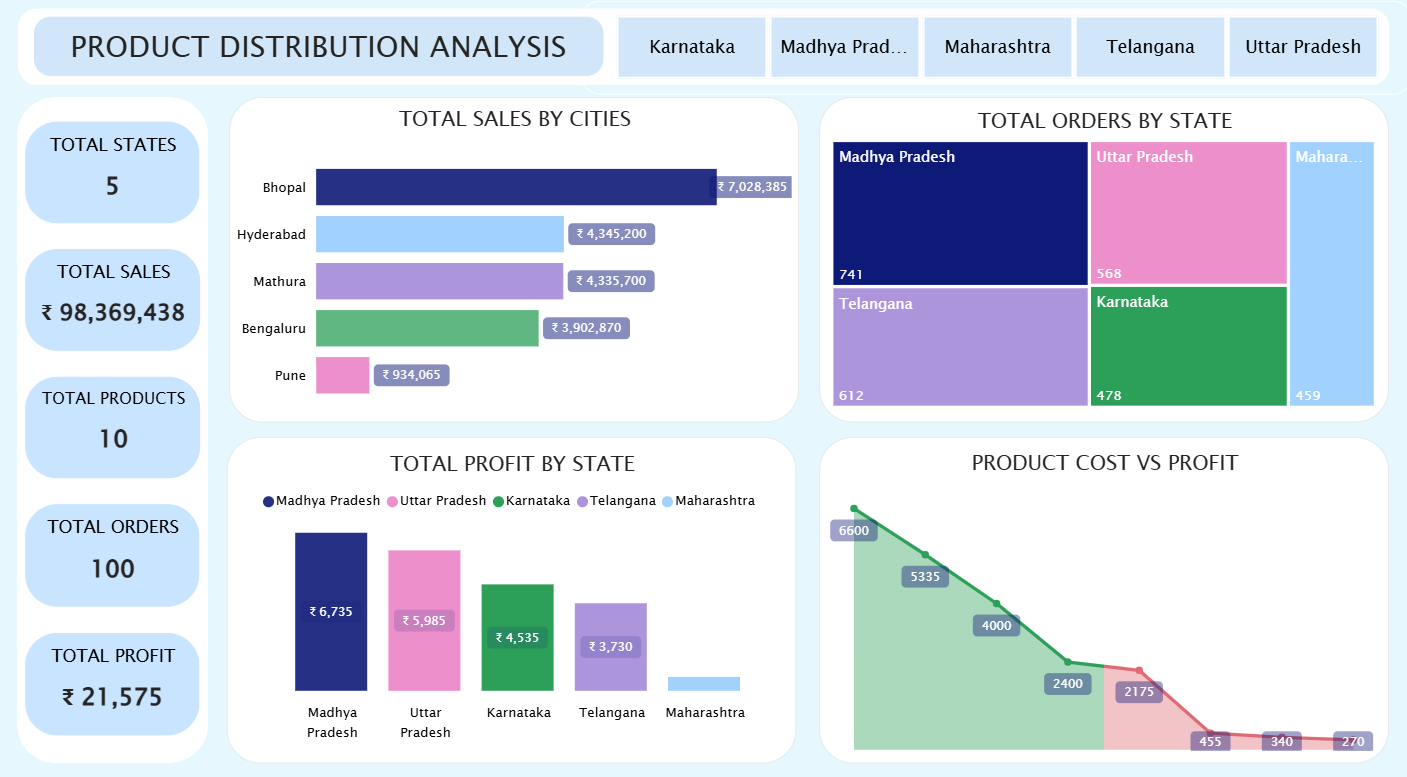

Layout of this report page (visuals, bound fields, positions):
{"tool":"powerbi","page":{"name":"PRODUCT DISTRIBUTION ANALYSIS DASHBOARD","canvas":[1280,720],"ordinal":0},"visuals":[{"type":"treemap","title":"TOTAL ORDERS BY STATE","fields":{"Group":["DAX Customers xlsx.State"],"Values":["Sum(DAX Orders xlsx.Quantity)"]},"box":[743,95.3,515.1,294.2],"z":0},{"type":"clusteredBarChart","title":"TOTAL SALES BY CITIES","fields":{"Category":["DAX Customers xlsx.City"],"Y":["DAX Orders xlsx.SALES"]},"box":[209.3,95.3,515.1,294.2],"z":1000},{"type":"columnChart","title":"TOTAL PROFIT BY STATE","fields":{"Category":["DAX Customers xlsx.State"],"Y":["DAX Orders xlsx.PROFIT"],"Series":["DAX Customers xlsx.State"]},"box":[207,402.3,515.1,295.3],"z":2000},{"type":"areaChart","title":"PRODUCT QUANTITY DISTRIUTION BY STATE","fields":{"Category":["DAX Orders xlsx.Product Cost"],"Y":["DAX Orders xlsx.PROFIT"]},"box":[743,402.3,515.1,295.3],"z":3000},{"type":"shape","box":[17.4,95.3,173.3,602.3],"z":4000},{"type":"card","title":"TOTAL STATES","fields":{"Values":["Count(DAX Customers xlsx.State)"]},"box":[24.1,116.4,159.3,93.3],"z":5000},{"type":"card","title":"TOTAL SALES","fields":{"Values":["DAX Orders xlsx.SALES"]},"box":[24.1,231.7,160.4,93.3],"z":6000},{"type":"card","title":"TOTAL PRODUCTS","fields":{"Values":["Count(DAX Orders xlsx.Product)"]},"box":[24.1,347,160.4,93.3],"z":7000},{"type":"card","title":"TOTAL ORDERS","fields":{"Values":["CountNonNull(DAX Orders xlsx.Order ID)"]},"box":[24.1,462.3,159.3,94.4],"z":8000},{"type":"card","title":"TOTAL PROFIT","fields":{"Values":["DAX Orders xlsx.PROFIT"]},"box":[24.1,578.7,159.3,94.4],"z":9000},{"type":"shape","box":[18.6,15.1,1240.7,69.8],"z":10000},{"type":"slicer","fields":{"Values":["DAX Customers xlsx.State"]},"box":[527.3,8.4,752.7,84.9],"z":11000},{"type":"textbox","box":[31.5,22,516.8,55.6],"z":12000}]}

Visuals, with their boxes in screenshot pixels (x1, y1, x2, y2), scaled from the page's 1280x720 canvas onto the 1407x777 screenshot:
"TOTAL ORDERS BY STATE" treemap: crop(817, 103, 1383, 420)
"TOTAL SALES BY CITIES" clusteredBarChart: crop(230, 103, 796, 420)
"TOTAL PROFIT BY STATE" columnChart: crop(228, 434, 794, 753)
"PRODUCT QUANTITY DISTRIUTION BY STATE" areaChart: crop(817, 434, 1383, 753)
shape: crop(19, 103, 210, 753)
"TOTAL STATES" card: crop(26, 126, 202, 226)
"TOTAL SALES" card: crop(26, 250, 203, 351)
"TOTAL PRODUCTS" card: crop(26, 374, 203, 475)
"TOTAL ORDERS" card: crop(26, 499, 202, 601)
"TOTAL PROFIT" card: crop(26, 625, 202, 726)
shape: crop(20, 16, 1384, 92)
slicer - DAX Customers xlsx.State: crop(580, 9, 1406, 101)
textbox: crop(35, 24, 603, 84)
